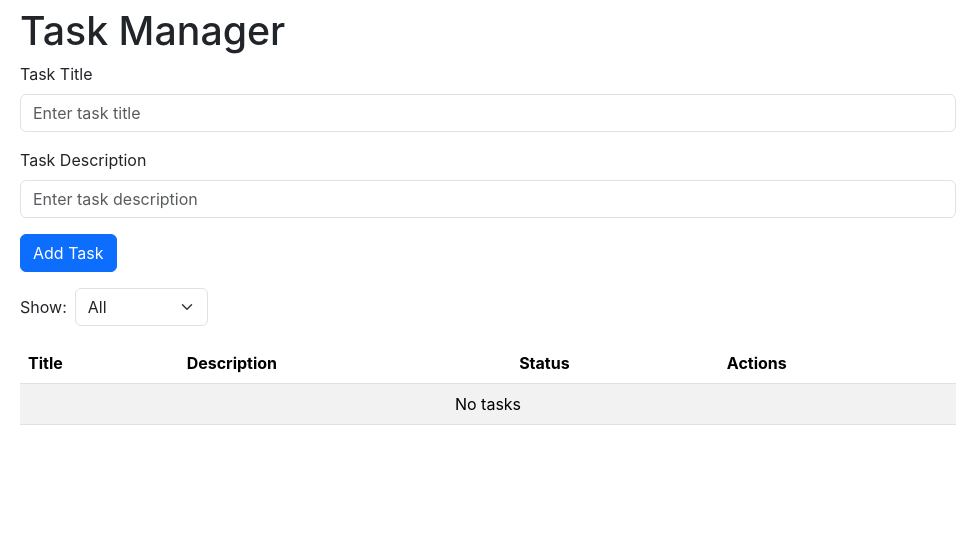
Test: App Component › adds multiple tasks and maintains them in the list
Type "Task 1" into the field with placeholder "Enter task title" at [488, 113], box [20,94,956,132]
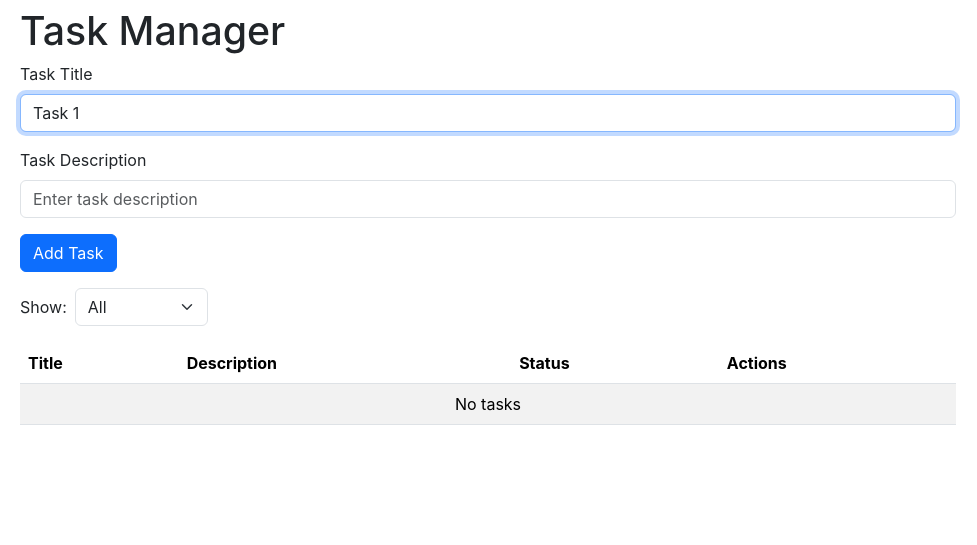
Click the button "Add Task" at [68, 253], box [20,234,116,272]
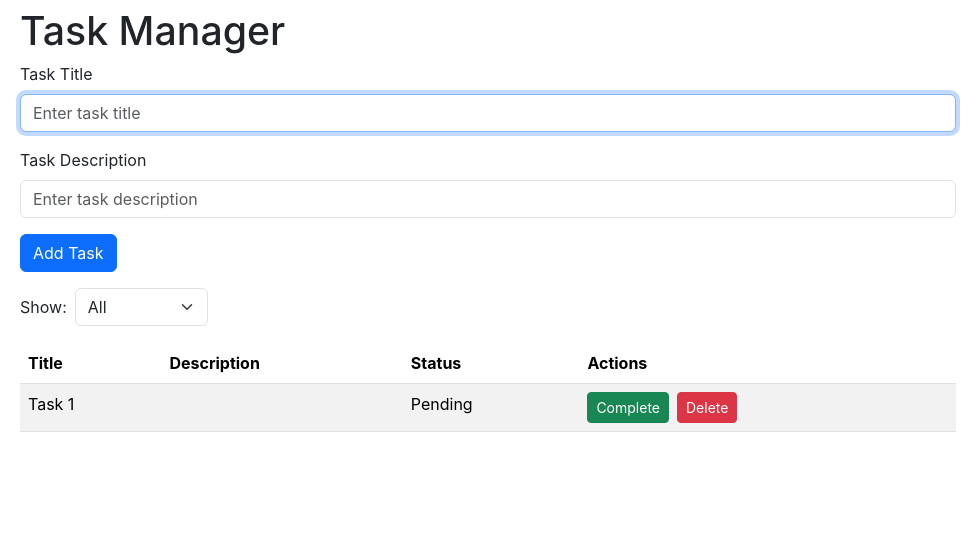
Type "Task 2" into the field with placeholder "Enter task title" at [488, 113], box [20,94,956,132]
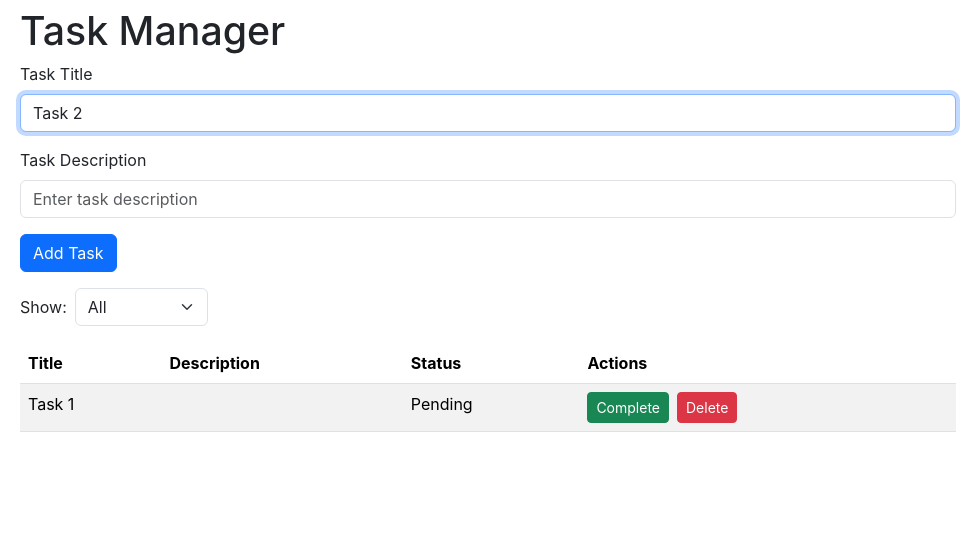
Click the button "Add Task" at [68, 253], box [20,234,116,272]
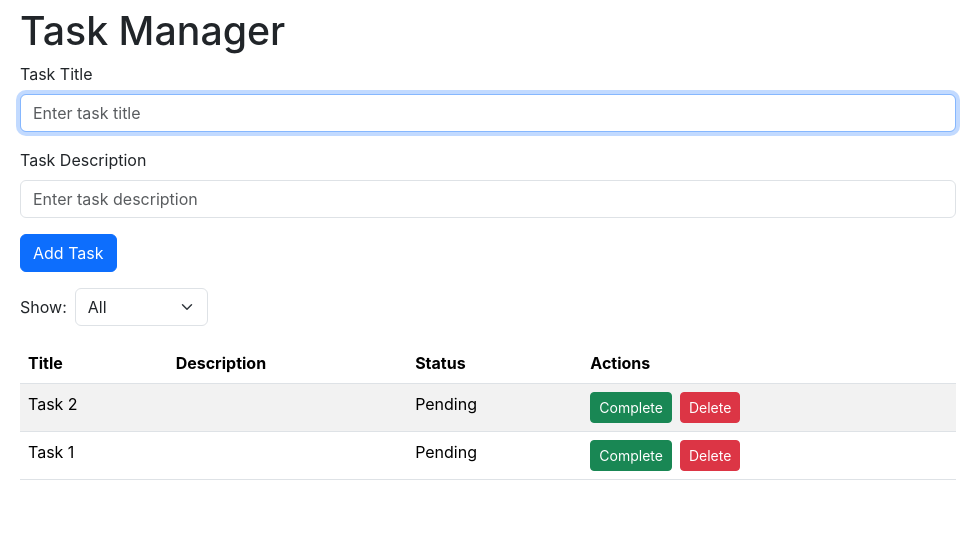
Type "Task 3" into the field with placeholder "Enter task title" at [488, 113], box [20,94,956,132]
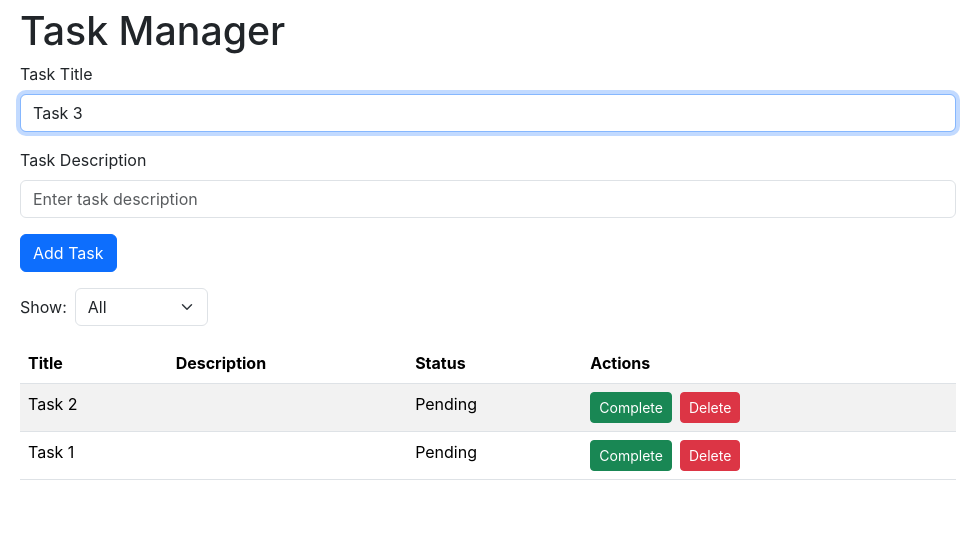
Click the button "Add Task" at [68, 253], box [20,234,116,272]
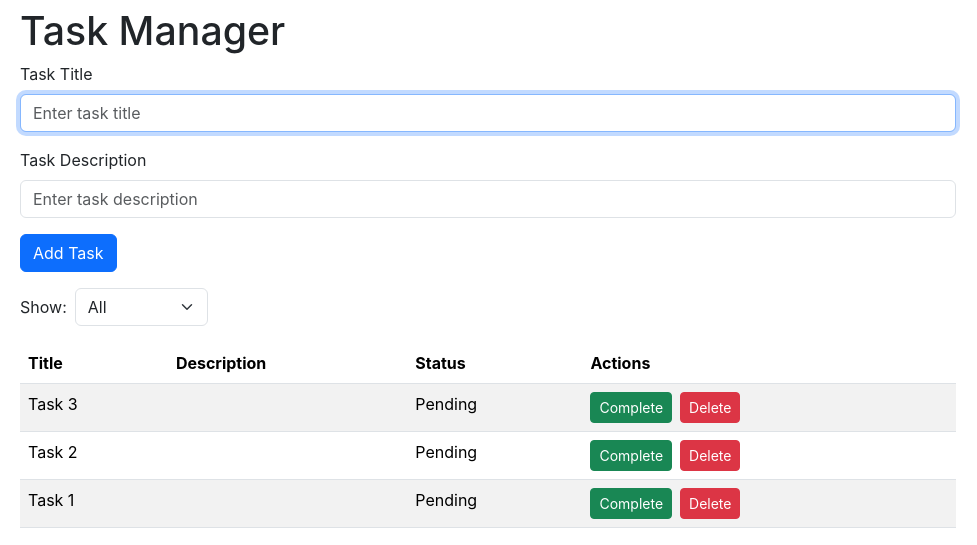
Check: the text "Task 1" is shown, box [20,480,168,528]
Check: the text "Task 2" is shown, box [20,432,168,480]
Check: the text "Task 3" is shown, box [20,384,168,432]
